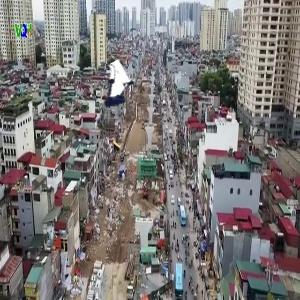drone: (79, 69, 145, 135)
